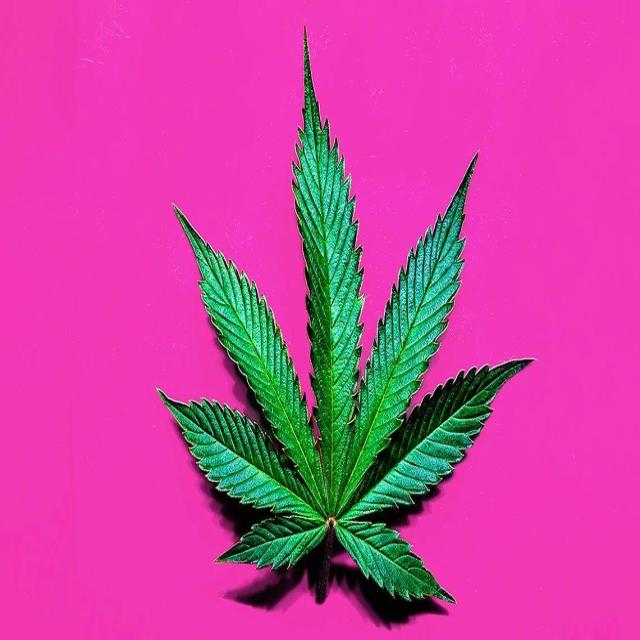cannabis: (155, 24, 538, 607)
